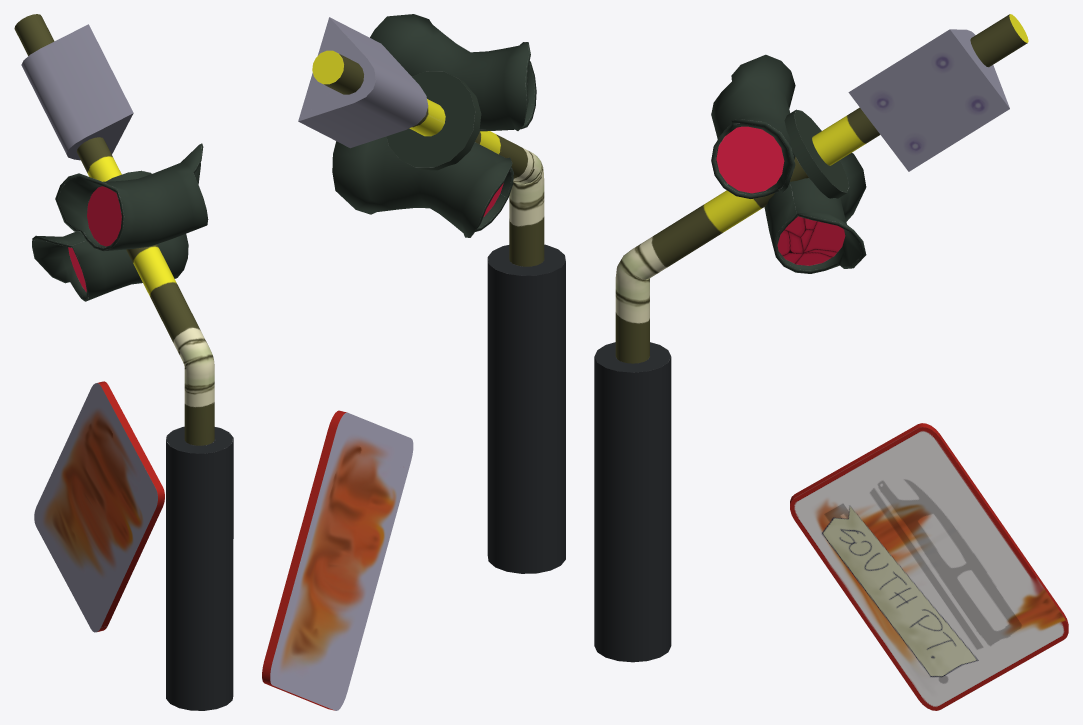
Rendered from SOUTHts.fbx.
3 renders of one model, left to right at view 1: azimuth 30°, elevation 25°; view 2: azimuth 150°, elevation 25°; view 3: azimuth 270°, elevation 25°, orthographic. The views are drawn at different scales.
Parts seen in each view (by area): view 1: lights.001; view 2: lights.001; view 3: lights.001.
Part boxes in pixels (x1=…): lights.001: x1=14, y1=14, x2=233, y2=710; lights.001: x1=262, y1=14, x2=565, y2=710; lights.001: x1=594, y1=14, x2=1068, y2=710.
Size of the model in its own units: 47.7 by 190 by 120.
